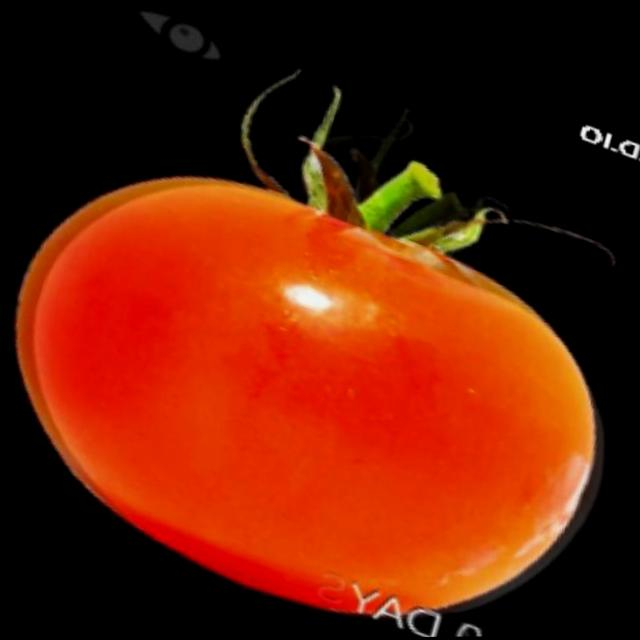tomato: (1, 159, 627, 640)
